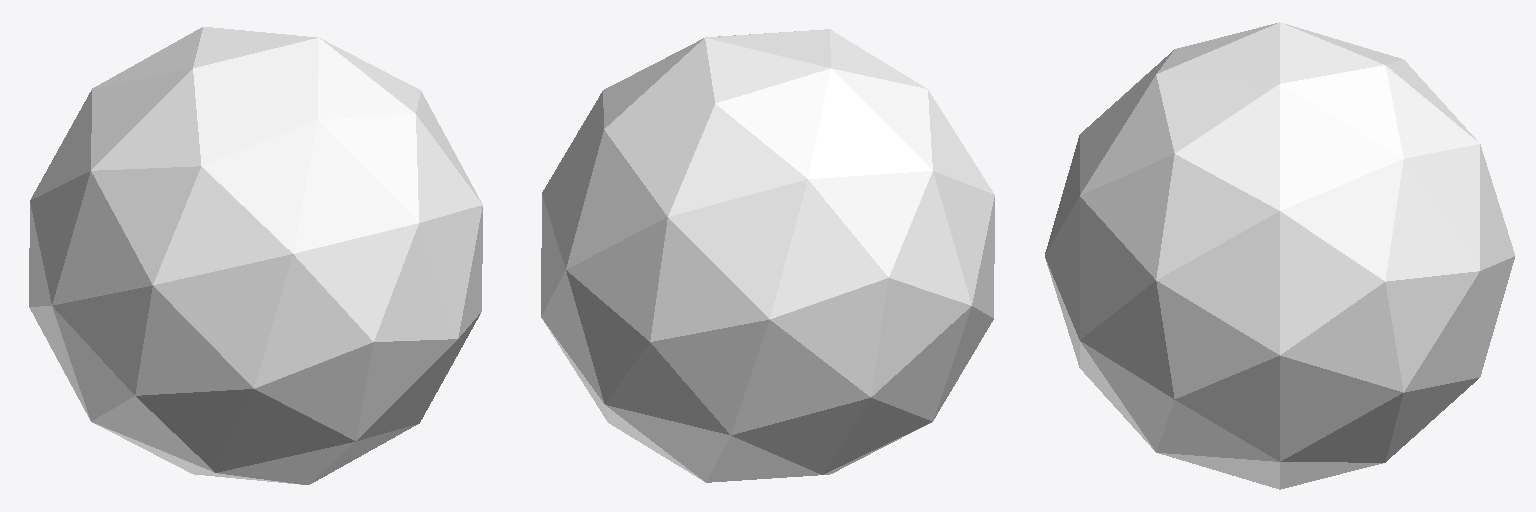
Rendered from mineh.obj.
3 renders of one model, left to right at view 1: azimuth 30°, elevation 25°; view 2: azimuth 150°, elevation 25°; view 3: azimuth 270°, elevation 25°, orthographic.
Parts seen in each view (by area): view 1: Mine; view 2: Mine; view 3: Mine.
Boxes of the visible parts, x1=… form: Mine: x1=29, y1=27, x2=482, y2=484; Mine: x1=541, y1=29, x2=994, y2=482; Mine: x1=1045, y1=22, x2=1514, y2=489.
Size of the model in its own units: 2 by 1.9 by 2.